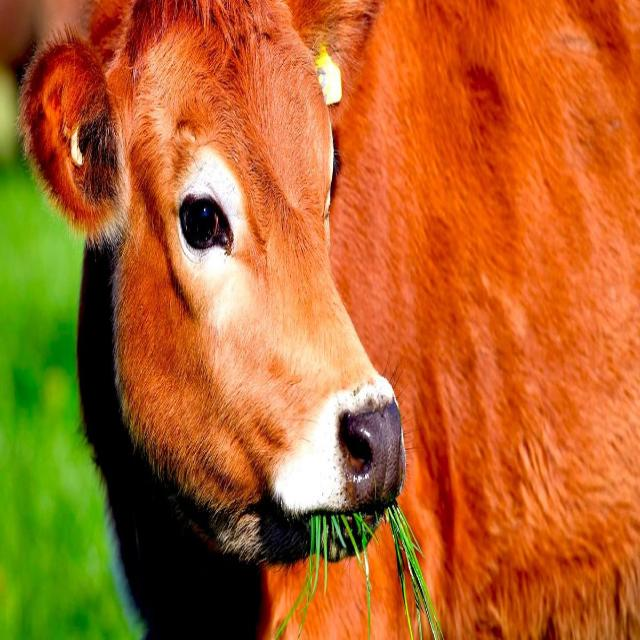cow: (59, 48, 396, 549)
